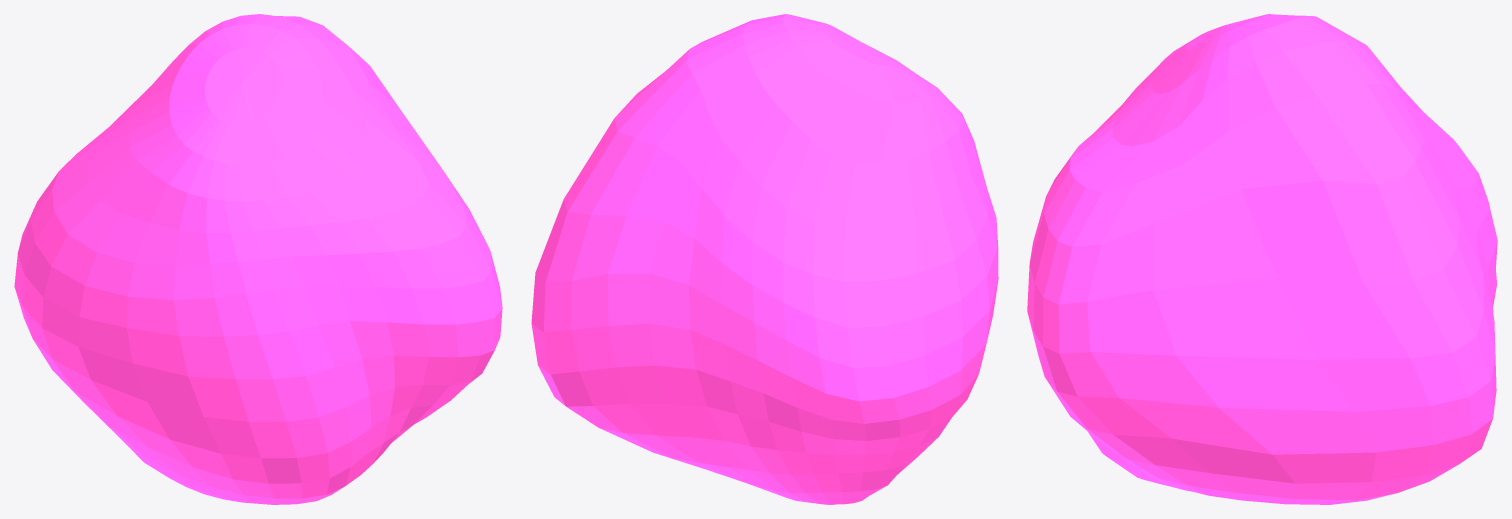
File: PurpleGlob1.fbx
The picture shows the model from 3 angles, left to right: view 1: azimuth 30°, elevation 25°; view 2: azimuth 150°, elevation 25°; view 3: azimuth 270°, elevation 25°; orthographic projection. The views are drawn at different scales.
Visible parts, largest first — view 1: Sphere; view 2: Sphere; view 3: Sphere.
Boxes of the visible parts, left/top/right/bottom form: Sphere: left=14, top=14, right=502, bottom=504; Sphere: left=531, top=14, right=998, bottom=504; Sphere: left=1027, top=14, right=1497, bottom=504.
Bounding box in the file's own units: 242 × 275 × 243.
